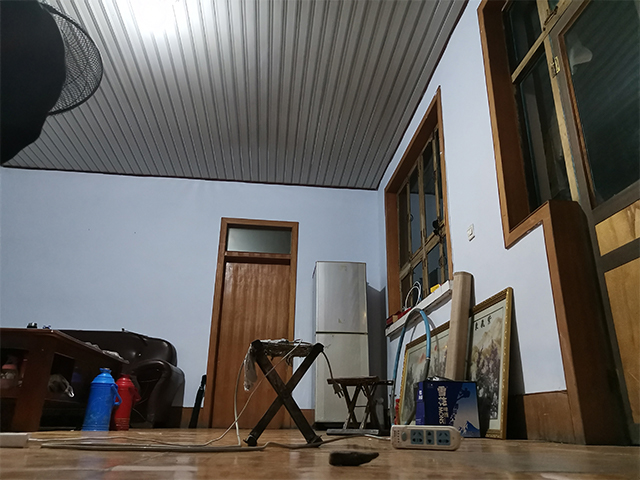feces: (327, 449, 380, 467)
stool: (243, 338, 327, 448), (324, 373, 396, 437)
table: (1, 325, 127, 434)
wire: (1, 419, 247, 448)
